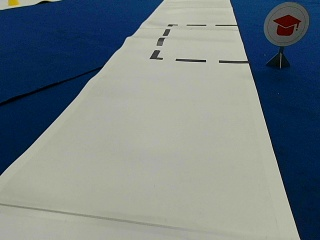school: (264, 3, 308, 45)
